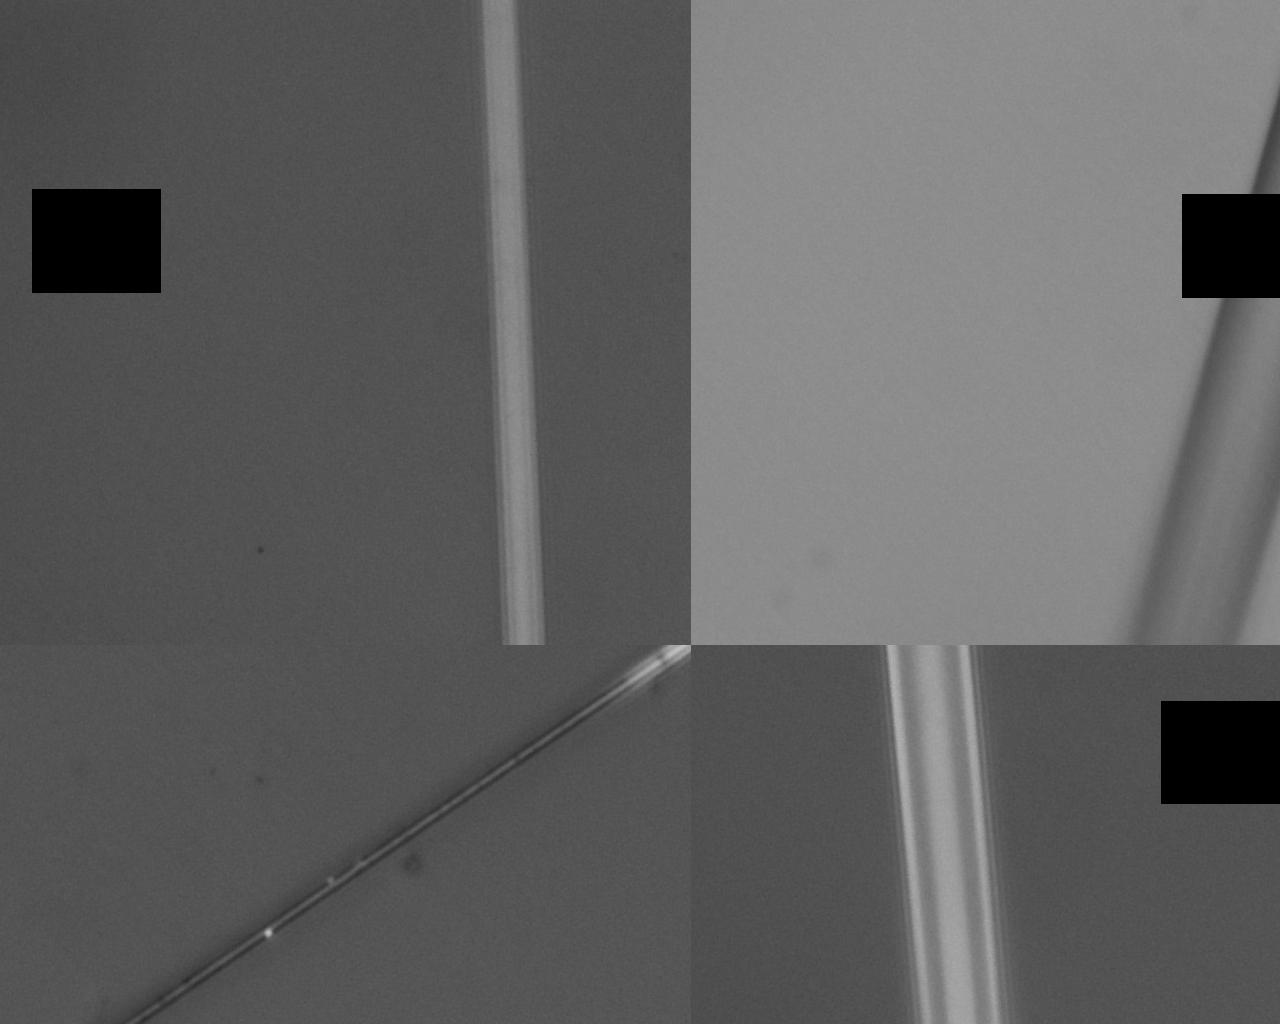fiber: (466, 1, 1112, 1019)
